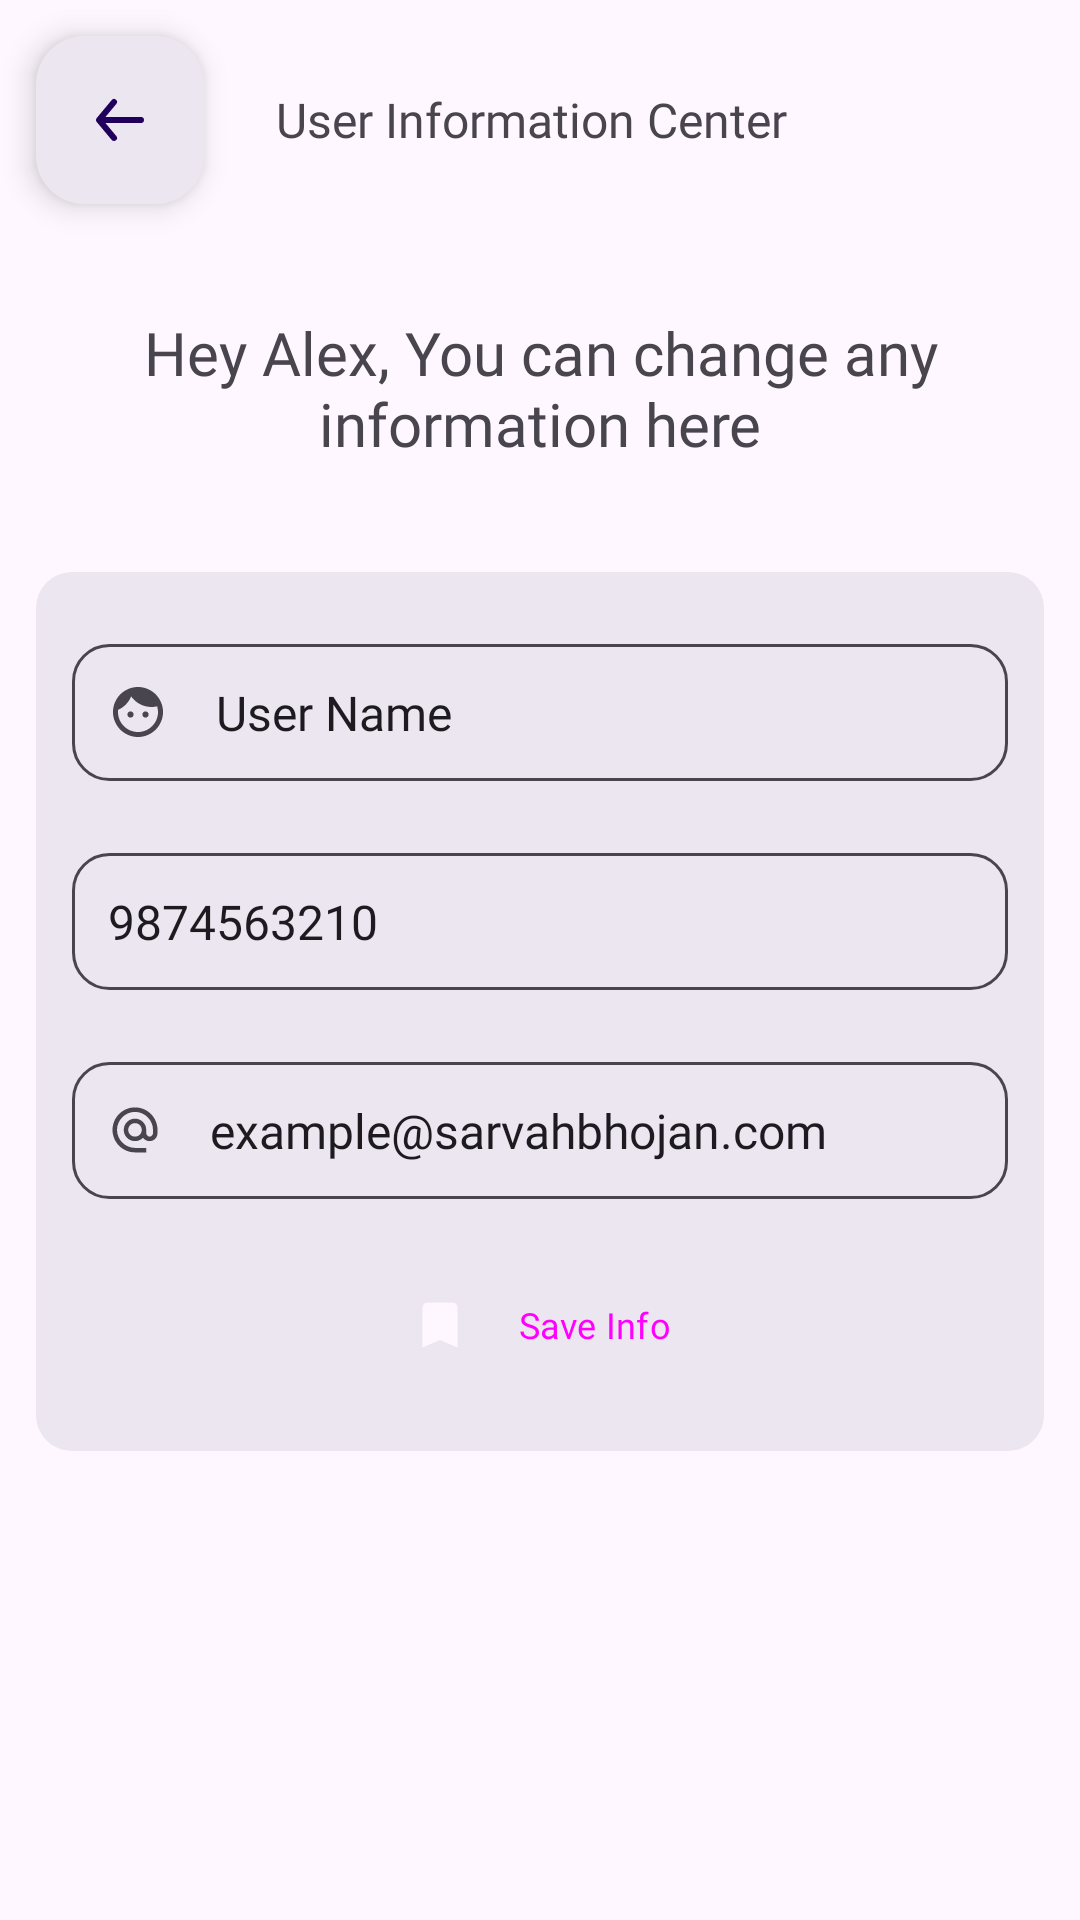

Where icons sit on this 1080x1920 app screen, as (x1, y1, x2, y2):
back arrow: (96, 99, 144, 141)
